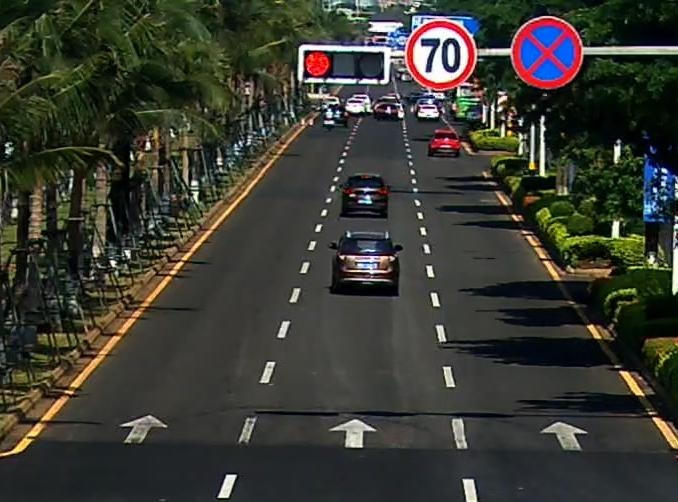red: (299, 49, 331, 77)
